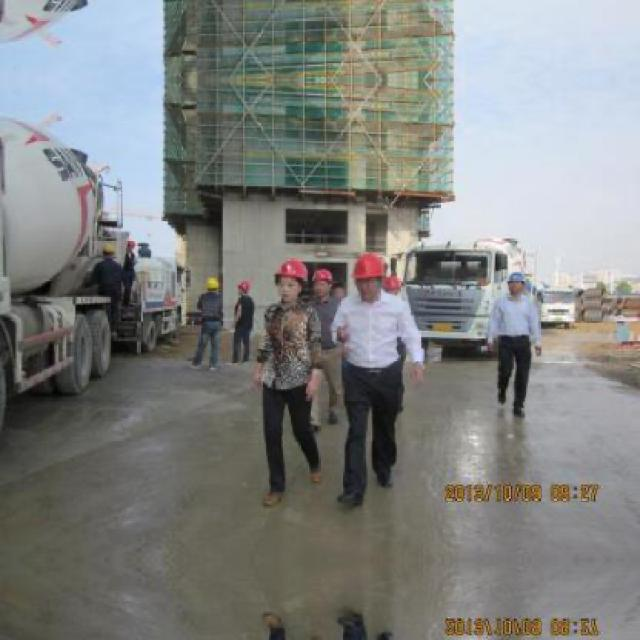helmet: (348, 250, 386, 298), (270, 257, 308, 301), (310, 263, 332, 300), (508, 270, 528, 296), (232, 275, 254, 297), (100, 240, 115, 263), (206, 272, 220, 294)
